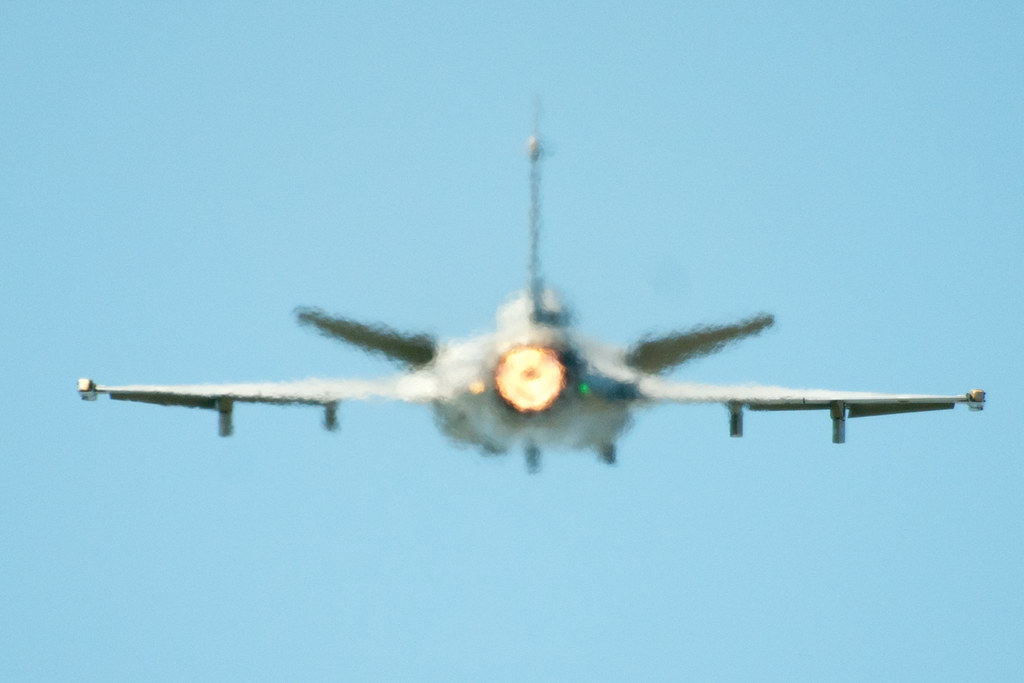JAS39: (74, 91, 986, 476)
